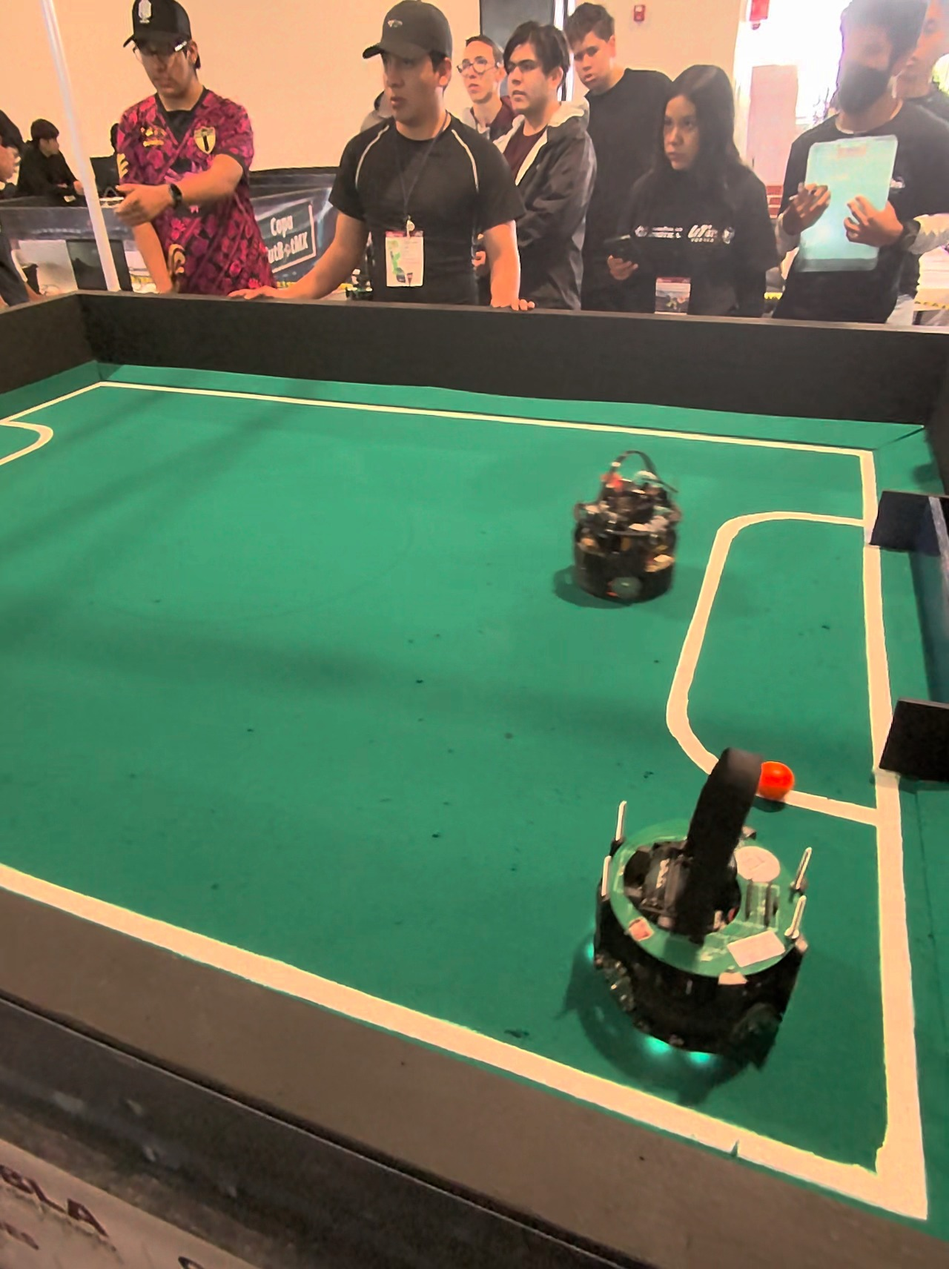Robot: (571, 736, 815, 1109), (554, 452, 691, 619)
pelota: (754, 758, 790, 798)
